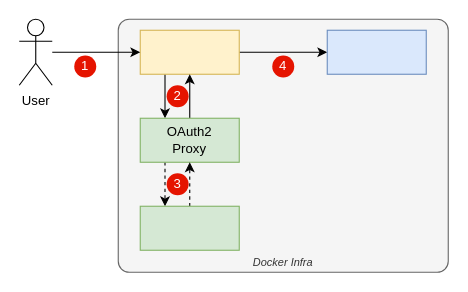
The diagram is 468 pixels wide and 292 high, and some of its shapes have lost their labels. Each missing label, with the centre of its shape:
"dex IDP" belongs at (x=189, y=227).
"httpbin app" belongs at (x=376, y=51).
"Nginx Ingress" belongs at (x=189, y=51).
